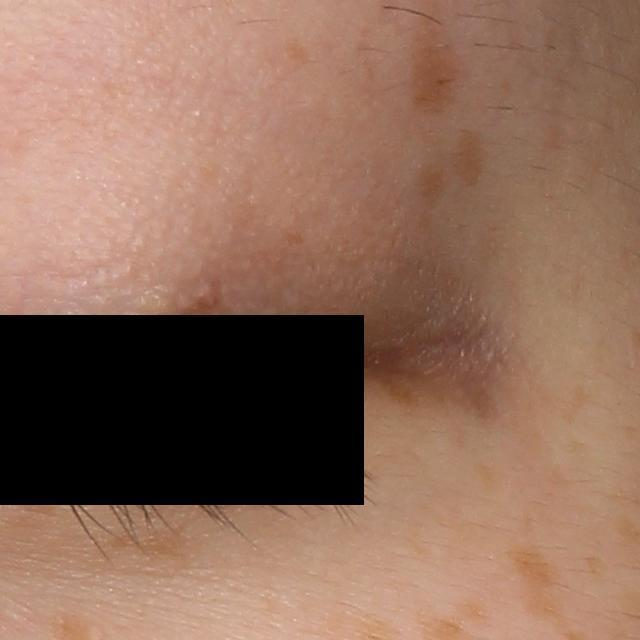melasma: (386, 366, 515, 427), (166, 282, 225, 364), (104, 525, 190, 578), (451, 125, 482, 184), (409, 160, 440, 205)
